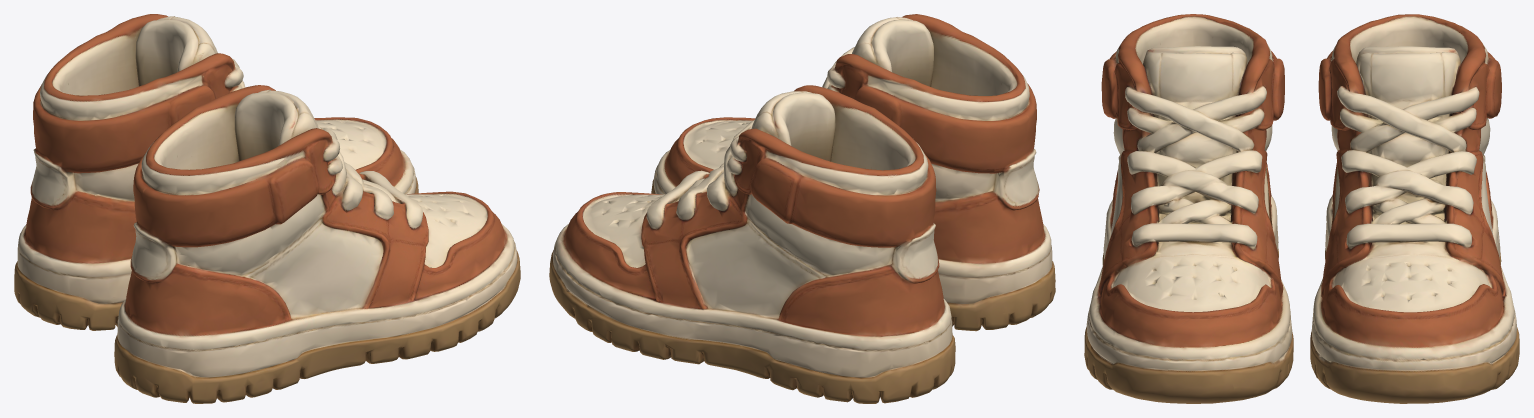
Rendered from boots_high_tops_tripo_raw.glb.
3 renders of one model, left to right at view 1: azimuth 30°, elevation 25°; view 2: azimuth 150°, elevation 25°; view 3: azimuth 270°, elevation 25°, orthographic. The views are drawn at different scales.
Parts seen in each view (by area): view 1: tripo_node_ea6c01ce-8686-447d-8cb9-65692d70d060; view 2: tripo_node_ea6c01ce-8686-447d-8cb9-65692d70d060; view 3: tripo_node_ea6c01ce-8686-447d-8cb9-65692d70d060.
Boxes of the visible parts, <box> form: tripo_node_ea6c01ce-8686-447d-8cb9-65692d70d060: <box>14,14,520,403</box>; tripo_node_ea6c01ce-8686-447d-8cb9-65692d70d060: <box>549,14,1055,403</box>; tripo_node_ea6c01ce-8686-447d-8cb9-65692d70d060: <box>1084,14,1519,403</box>.
Bounding box in the file's own units: 1 × 0.6338 × 0.9138.
1 material, 1 textured.
